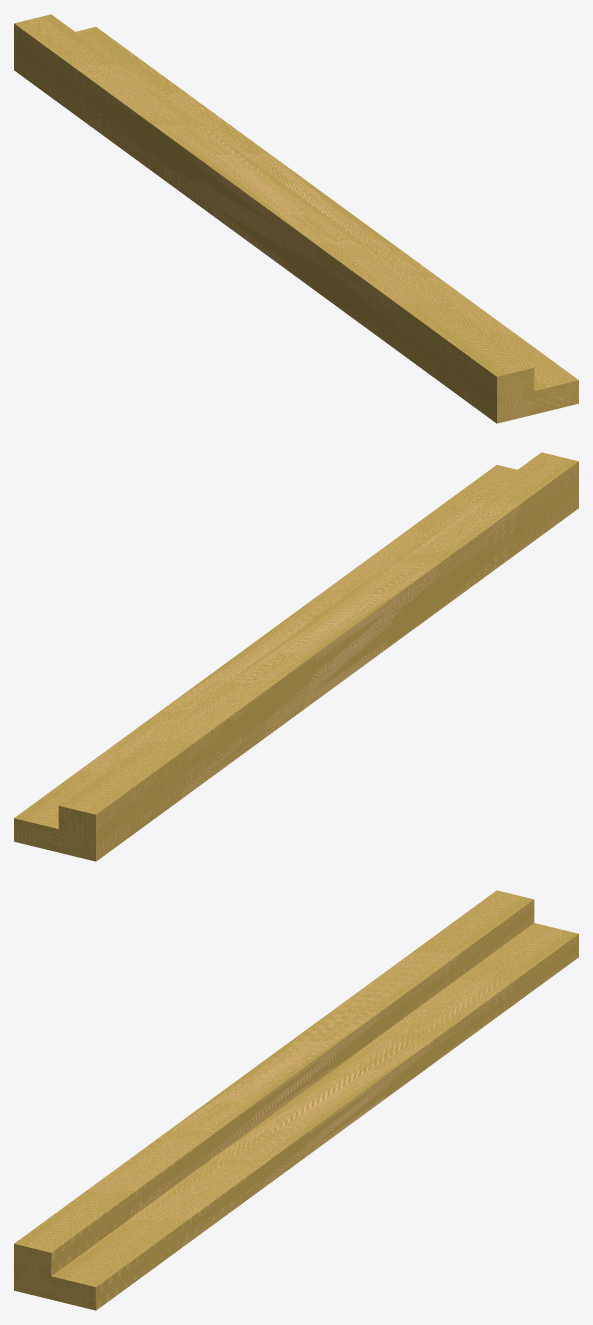
Rendered from original-118.obj.
3 renders of one model, top to bottom at view 1: azimuth 30°, elevation 25°; view 2: azimuth 150°, elevation 25°; view 3: azimuth 330°, elevation 25°, orthographic.
Visible parts, largest first — view 1: Component_7_32/Component_7_1_2/mesh13/mesh13-geometry#mesh13-geo; view 2: Component_7_32/Component_7_1_2/mesh13/mesh13-geometry#mesh13-geo; view 3: Component_7_32/Component_7_1_2/mesh13/mesh13-geometry#mesh13-geo.
Part boxes in pixels (x1=…): Component_7_32/Component_7_1_2/mesh13/mesh13-geometry#mesh13-geo: x1=14, y1=14, x2=578, y2=423; Component_7_32/Component_7_1_2/mesh13/mesh13-geometry#mesh13-geo: x1=14, y1=452, x2=578, y2=861; Component_7_32/Component_7_1_2/mesh13/mesh13-geometry#mesh13-geo: x1=14, y1=890, x2=578, y2=1310.
Bounding box in the file's own units: 0.0241 × 0.0131 × 0.2454.
